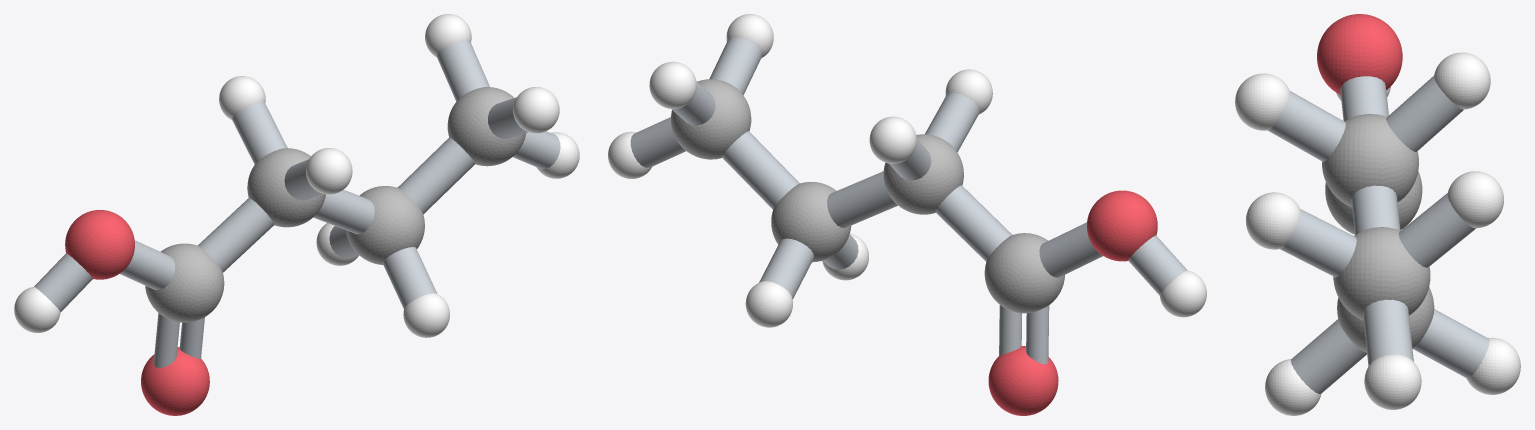
The model's file is Butanoico.glb.
3 views of the same model, side by side, from view 1: azimuth 30°, elevation 25°; view 2: azimuth 150°, elevation 25°; view 3: azimuth 270°, elevation 25° (orthographic). The views are drawn at different scales.
Size of the model in its own units: 7.08 by 3.49 by 2.5.
